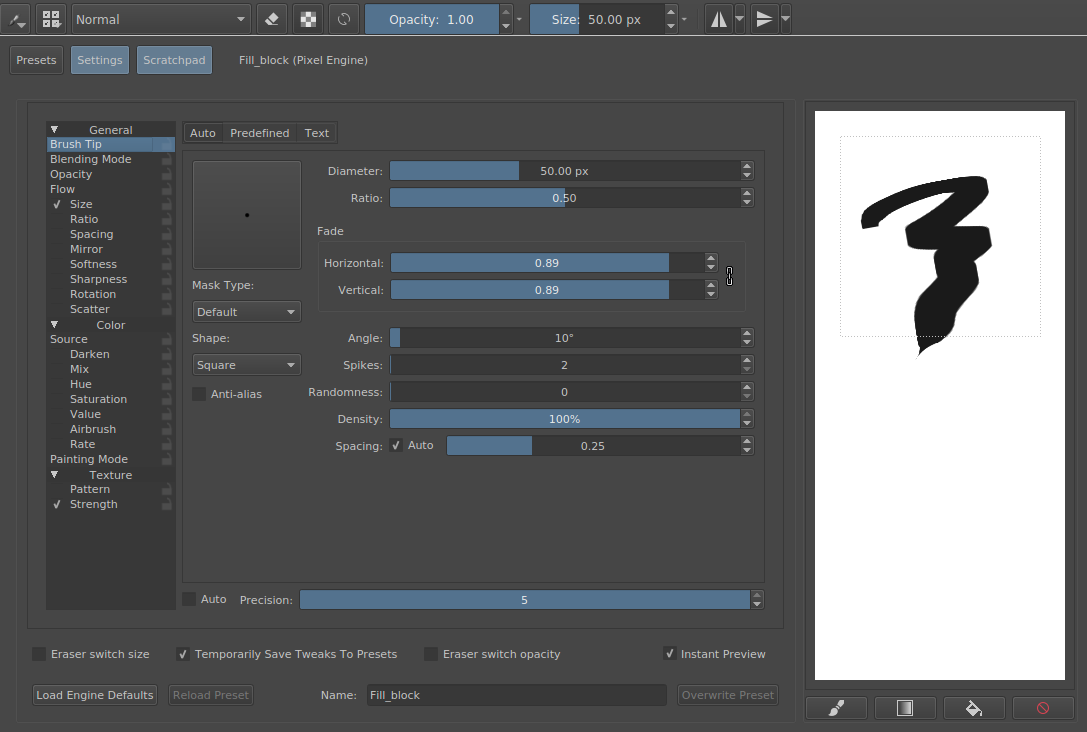button: (299, 588, 750, 609), (392, 278, 719, 301), (389, 160, 741, 181), (388, 187, 741, 207), (388, 381, 741, 401), (389, 328, 741, 348), (390, 409, 740, 429), (389, 251, 705, 273), (391, 278, 705, 300), (390, 355, 741, 374), (72, 3, 252, 36), (446, 436, 740, 455), (364, 3, 498, 35), (530, 2, 664, 34), (31, 684, 158, 707), (191, 352, 302, 378), (191, 299, 303, 324), (136, 46, 213, 75), (677, 684, 778, 705), (44, 331, 176, 347), (44, 346, 176, 362), (44, 256, 175, 272), (44, 450, 175, 466), (45, 285, 175, 301), (46, 151, 175, 167), (45, 226, 176, 241), (44, 376, 175, 391), (44, 391, 175, 406), (44, 420, 175, 435), (44, 435, 175, 450), (45, 197, 175, 212), (45, 301, 175, 316), (45, 496, 175, 511), (168, 684, 254, 706), (45, 212, 176, 226), (45, 241, 176, 255), (44, 362, 175, 376), (44, 406, 175, 420), (46, 168, 176, 182), (45, 482, 175, 496), (46, 183, 175, 197), (46, 137, 174, 151), (70, 45, 129, 74), (45, 272, 174, 285), (804, 695, 868, 721), (873, 695, 937, 721), (1012, 695, 1076, 721), (9, 45, 63, 75), (944, 695, 1006, 721), (222, 122, 295, 143), (34, 3, 66, 36), (256, 3, 288, 36), (328, 3, 360, 35), (292, 3, 325, 34), (1, 3, 31, 37), (750, 3, 780, 35), (705, 4, 734, 34), (296, 123, 337, 143), (183, 122, 222, 143), (781, 3, 792, 36), (734, 3, 745, 35), (722, 265, 737, 287), (29, 645, 47, 663), (174, 646, 192, 664), (661, 644, 678, 662), (190, 385, 207, 403), (422, 645, 438, 663), (181, 591, 197, 607), (388, 437, 404, 453), (499, 19, 514, 36), (45, 316, 62, 331), (664, 2, 679, 18), (664, 18, 679, 34), (47, 121, 61, 137), (499, 3, 513, 18), (704, 250, 719, 263), (704, 264, 721, 274), (750, 589, 765, 600), (750, 600, 765, 611), (741, 391, 756, 402), (741, 418, 756, 429), (46, 468, 60, 479), (706, 279, 719, 290), (741, 365, 756, 374), (741, 355, 754, 365), (706, 291, 720, 300), (741, 382, 755, 391), (741, 160, 753, 170), (741, 171, 753, 181), (742, 187, 754, 197), (741, 328, 753, 338), (742, 339, 754, 349), (741, 436, 753, 446), (741, 409, 754, 418), (741, 446, 754, 455), (742, 196, 753, 206)
common: (194, 647, 400, 662), (238, 53, 369, 68), (441, 646, 561, 662), (50, 646, 150, 662), (681, 648, 766, 661), (307, 386, 383, 400), (322, 255, 385, 271), (189, 278, 255, 293), (326, 164, 383, 181), (238, 593, 294, 609), (336, 412, 383, 428), (334, 439, 384, 454), (210, 387, 263, 401), (337, 283, 384, 297), (318, 688, 360, 703), (341, 359, 384, 373), (85, 124, 134, 136), (87, 469, 134, 481), (348, 190, 383, 206), (345, 331, 384, 345), (190, 332, 231, 345), (406, 438, 435, 453), (197, 593, 228, 607), (95, 318, 128, 331)
container: (1, 37, 1087, 732), (16, 101, 795, 724), (28, 102, 784, 629), (183, 150, 765, 581), (804, 100, 1087, 730), (306, 157, 761, 460), (46, 121, 176, 609), (1, 1, 1087, 35), (190, 158, 306, 408), (316, 680, 782, 709), (327, 158, 755, 182), (308, 381, 756, 403), (335, 434, 754, 457), (322, 251, 721, 274), (344, 328, 754, 350), (348, 187, 753, 209), (388, 381, 756, 403), (337, 279, 721, 300), (390, 328, 754, 350), (336, 409, 756, 428), (341, 356, 757, 375), (389, 251, 720, 274), (390, 356, 756, 376), (390, 409, 756, 429), (446, 436, 753, 456), (172, 643, 401, 665), (530, 2, 678, 36), (365, 3, 516, 35), (422, 644, 563, 664), (27, 643, 153, 665), (44, 315, 176, 332), (660, 644, 766, 664), (44, 466, 176, 482), (46, 121, 174, 137), (191, 384, 266, 405), (751, 2, 793, 35), (705, 4, 746, 35), (180, 590, 230, 609)
header: (315, 224, 345, 240)
image: (815, 111, 1066, 681), (192, 159, 302, 271), (50, 198, 63, 211), (51, 498, 63, 512)
text-input: (366, 683, 667, 706)
